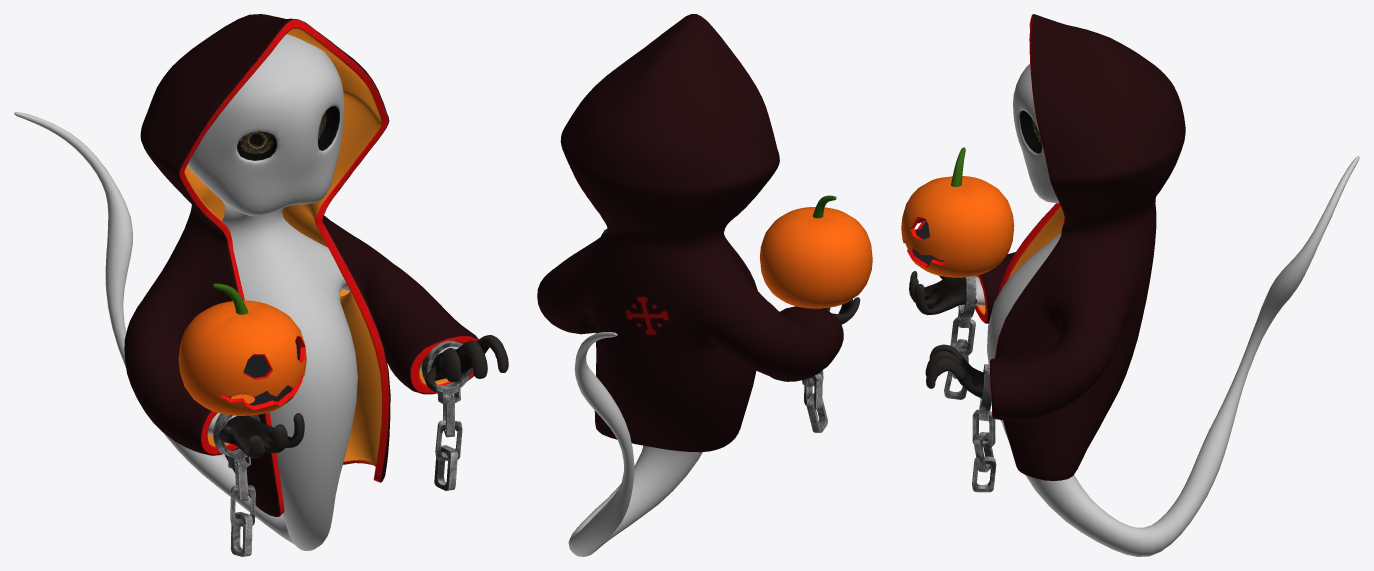
3 views of the same model, side by side, from view 1: azimuth 30°, elevation 25°; view 2: azimuth 150°, elevation 25°; view 3: azimuth 270°, elevation 25° (orthographic). The views are drawn at different scales.
Visible parts, largest first — view 1: defaultMaterial (×4); view 2: defaultMaterial (×4); view 3: defaultMaterial (×4).
Part boxes in pixels (<box>): defaultMaterial (×4): <box>14,14,508,556</box>; defaultMaterial (×4): <box>537,14,872,556</box>; defaultMaterial (×4): <box>901,14,1359,556</box>.
Bounding box in the file's own units: 346 × 608 × 492.
Materials: 4 (4 with a texture image).
